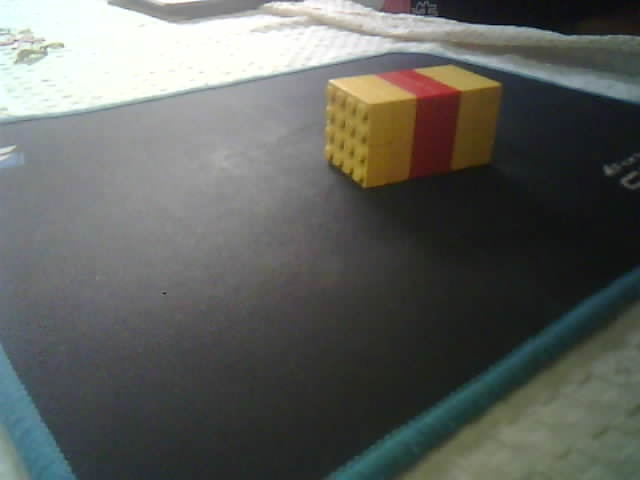lego: (323, 63, 502, 191)
